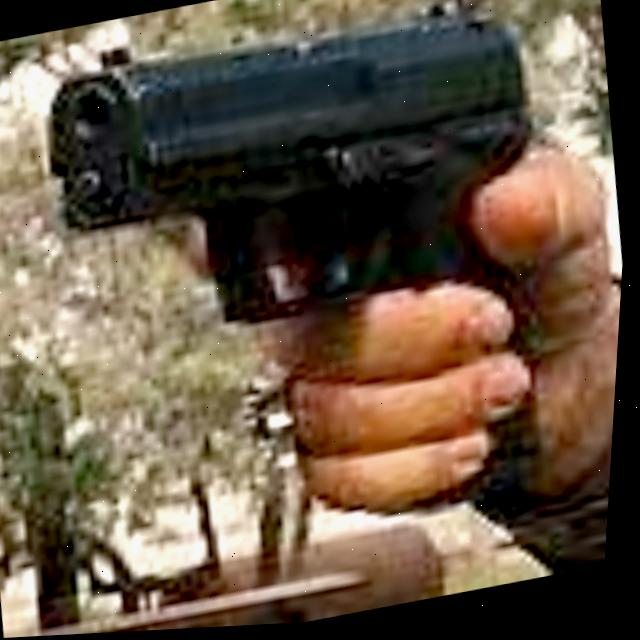pistol: (0, 0, 640, 591), (47, 6, 625, 581)
